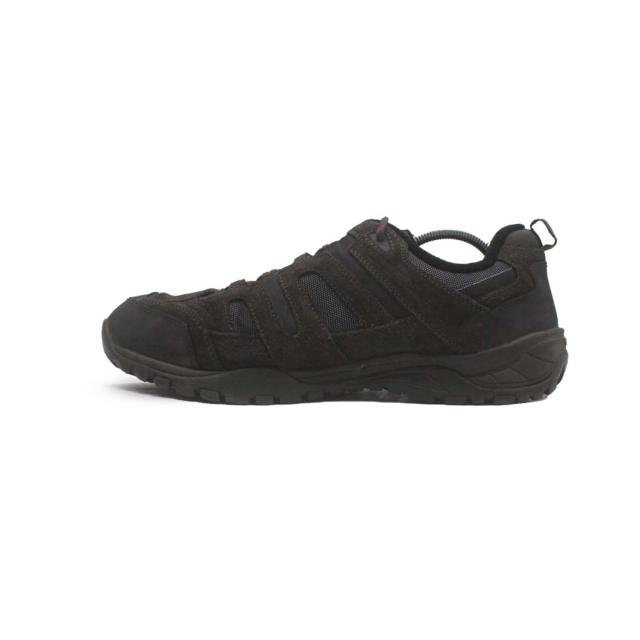heel: (483, 222, 559, 346)
midsole: (98, 318, 571, 406)
uppersole: (111, 218, 481, 374)
